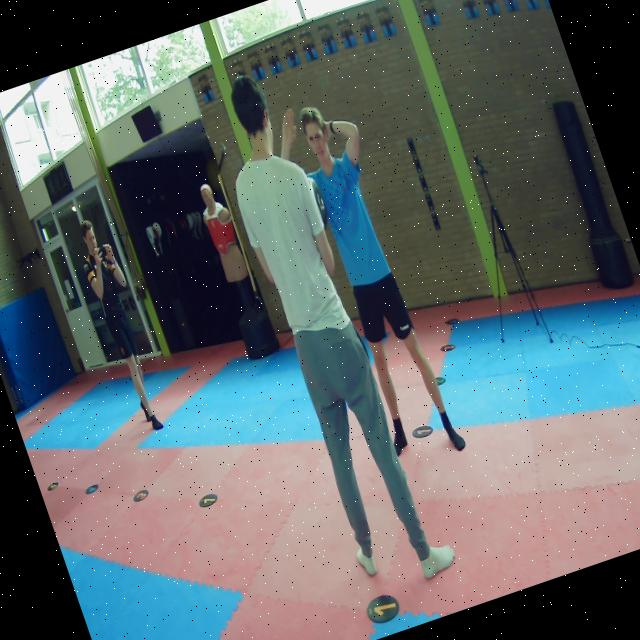paddle: (306, 175, 327, 228)
